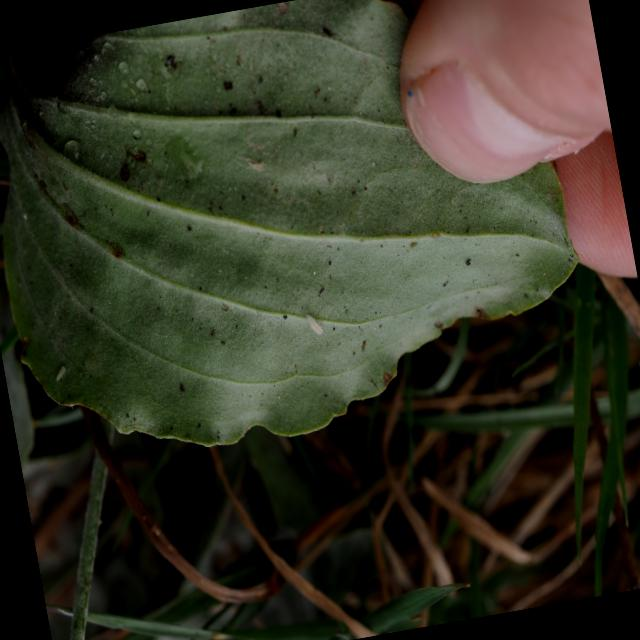powdery_mildew: (0, 0, 578, 446)
